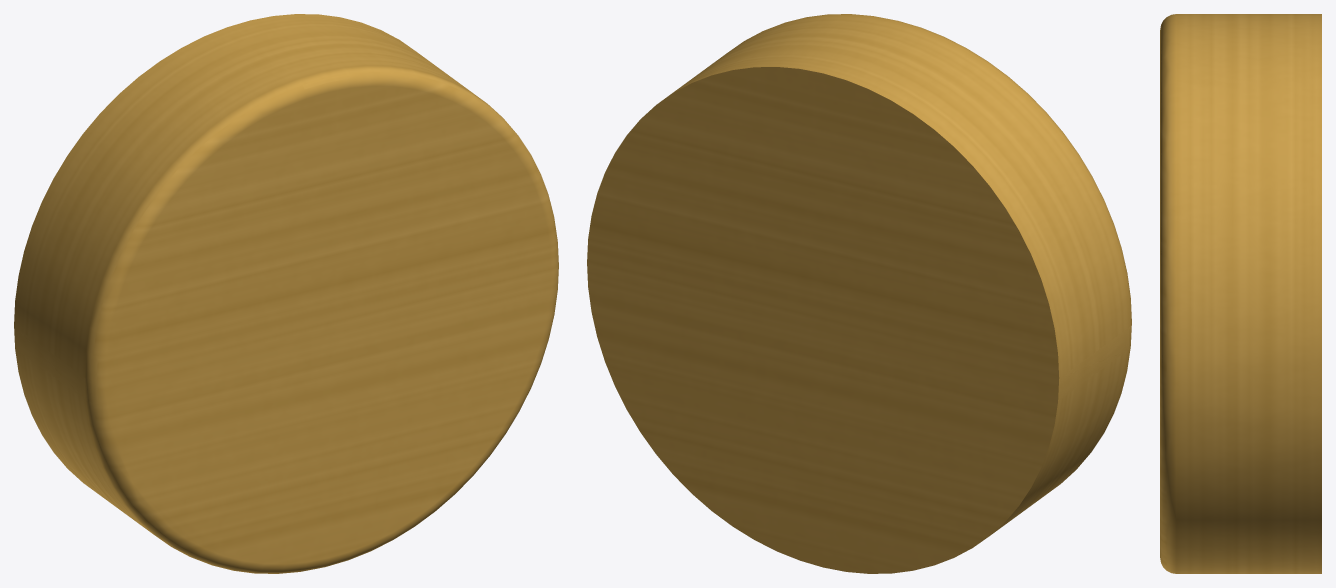
Rendered from lock_plug.obj.
3 views of the same model, side by side, from view 1: azimuth 30°, elevation 25°; view 2: azimuth 150°, elevation 25°; view 3: azimuth 270°, elevation 25° (orthographic). The views are drawn at different scales.
Visible parts, largest first — view 1: lock_plug; view 2: lock_plug; view 3: lock_plug.
Part boxes in pixels (x1=…): lock_plug: x1=14, y1=14, x2=558, y2=573; lock_plug: x1=587, y1=14, x2=1131, y2=573; lock_plug: x1=1160, y1=14, x2=1321, y2=573.
Bounding box in the file's own units: 0.052 × 0.052 × 0.015.
1 material, 1 textured.
